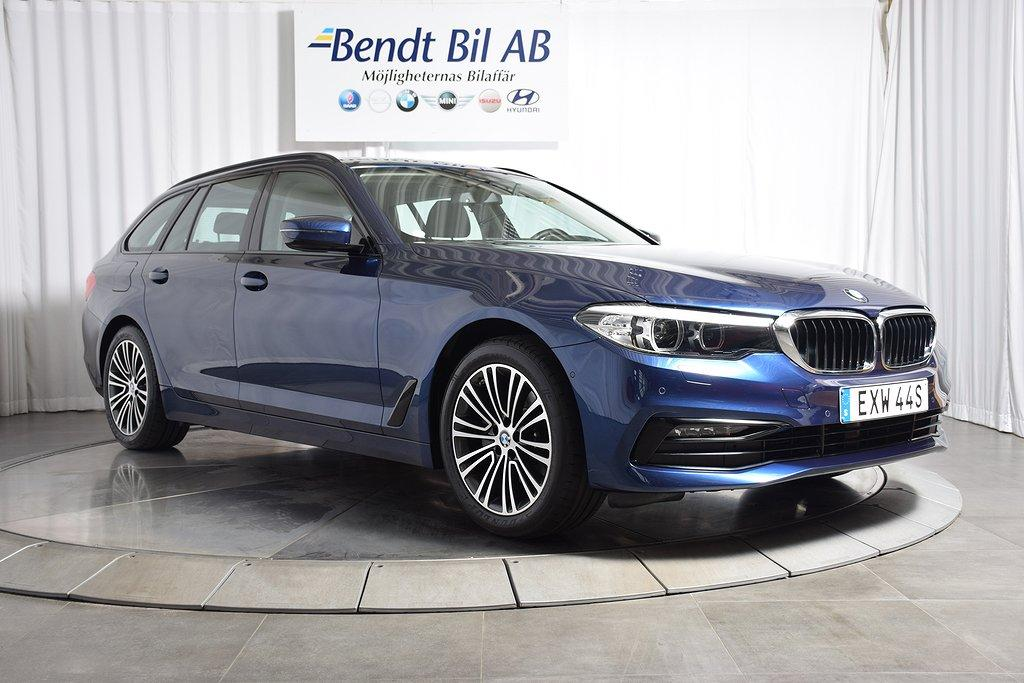license-plates: (839, 378, 930, 422)
